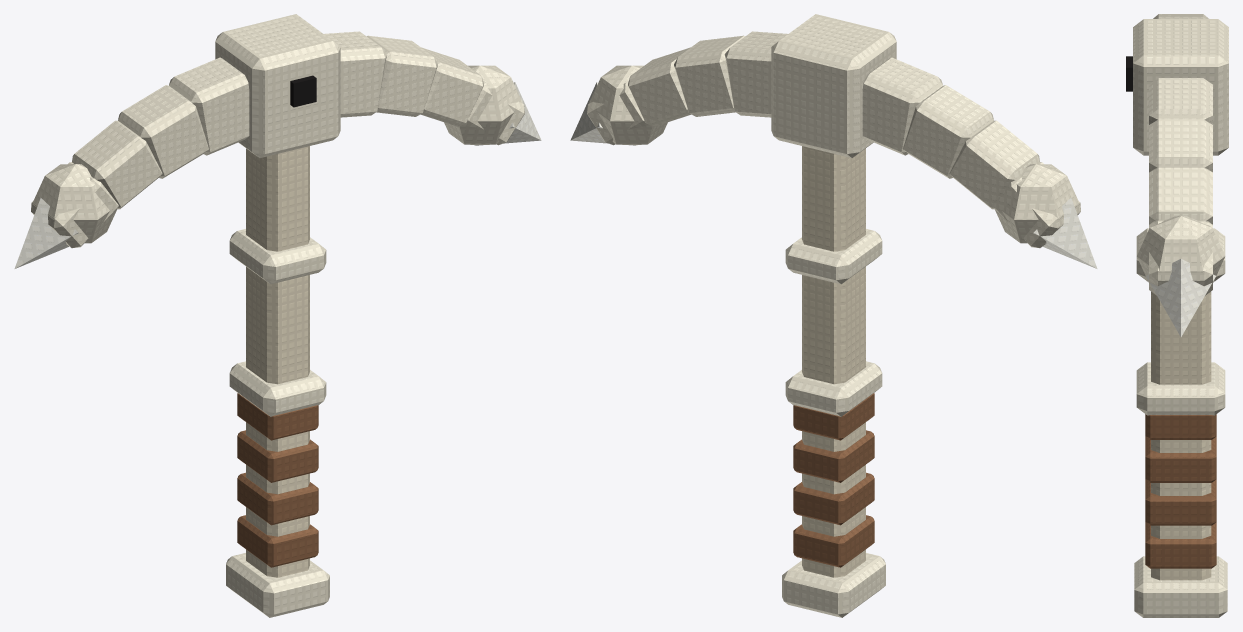
File: outil_14_pioche_en_os.glb
The picture shows the model from 3 angles, left to right: view 1: azimuth 30°, elevation 25°; view 2: azimuth 150°, elevation 25°; view 3: azimuth 270°, elevation 25°; orthographic projection.
Parts seen in each view (by area): view 1: outil_14_pioche_en_os; view 2: outil_14_pioche_en_os; view 3: outil_14_pioche_en_os.
Part boxes in pixels (left/top/right/bottom): outil_14_pioche_en_os: left=14, top=14, right=541, bottom=617; outil_14_pioche_en_os: left=570, top=14, right=1097, bottom=617; outil_14_pioche_en_os: left=1126, top=14, right=1228, bottom=617.
Bounding box in the file's own units: 13.88 × 14.12 × 2.32.
1 material, 1 textured.
